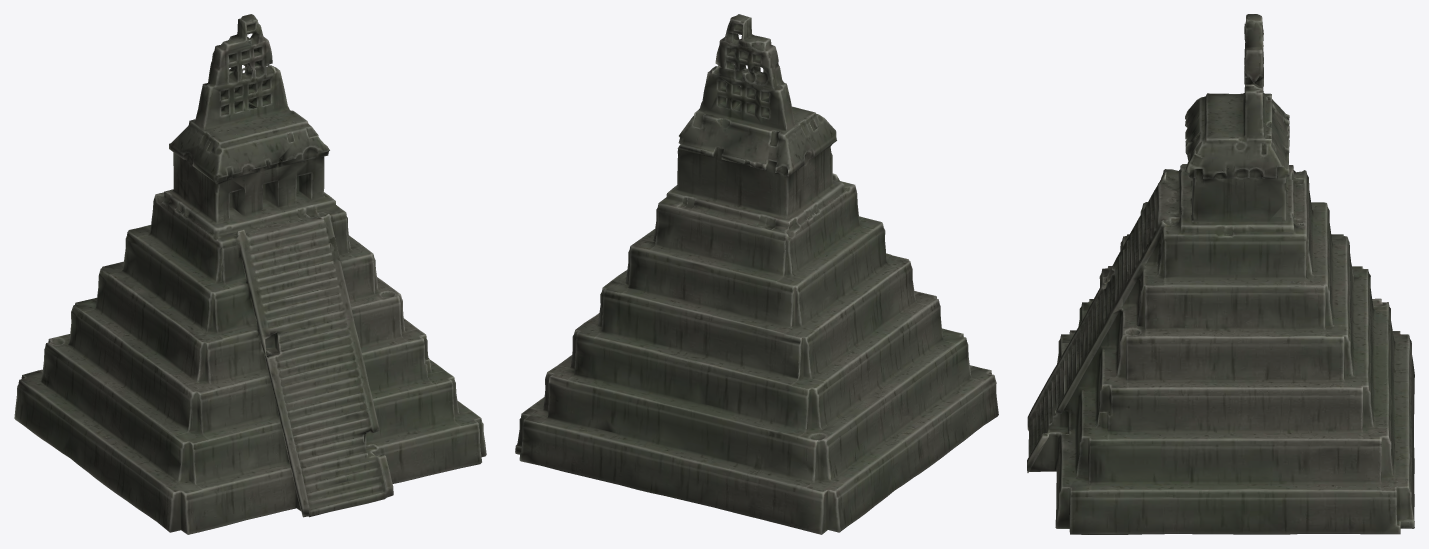
Rendered from temple1-limestone.glb.
The picture shows the model from 3 angles, left to right: view 1: azimuth 30°, elevation 25°; view 2: azimuth 150°, elevation 25°; view 3: azimuth 270°, elevation 25°; orthographic projection. The views are drawn at different scales.
Visible parts, largest first — view 1: maya_temple1; view 2: maya_temple1; view 3: maya_temple1.
Part boxes in pixels (left/top/right/bottom): maya_temple1: left=14, top=14, right=486, bottom=534; maya_temple1: left=515, top=14, right=998, bottom=534; maya_temple1: left=1027, top=14, right=1414, bottom=534.
Size of the model in its own units: 1 by 1.24 by 0.9949.
Materials: 1 (1 with a texture image).
